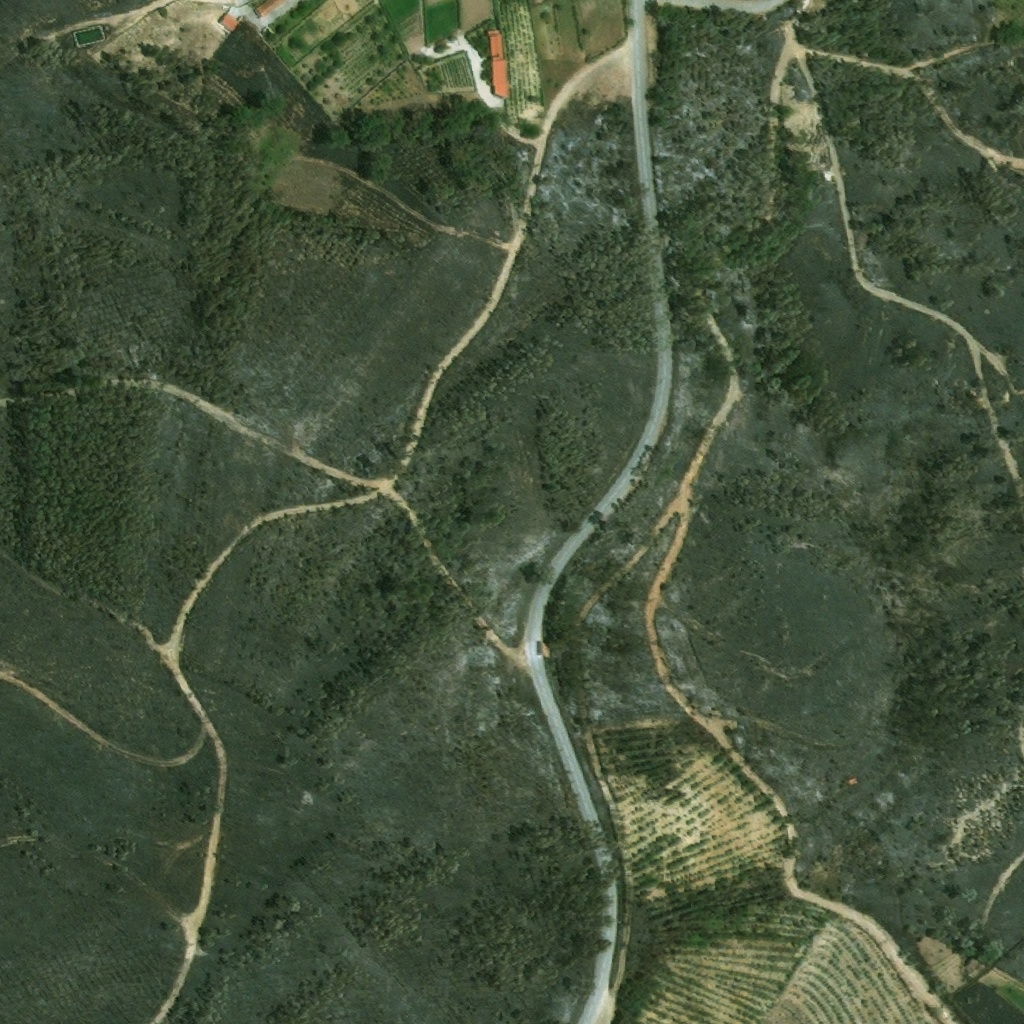0 no-damage: (484, 31, 508, 99), (217, 5, 245, 33)
4 un-classified: (254, 0, 283, 18)
